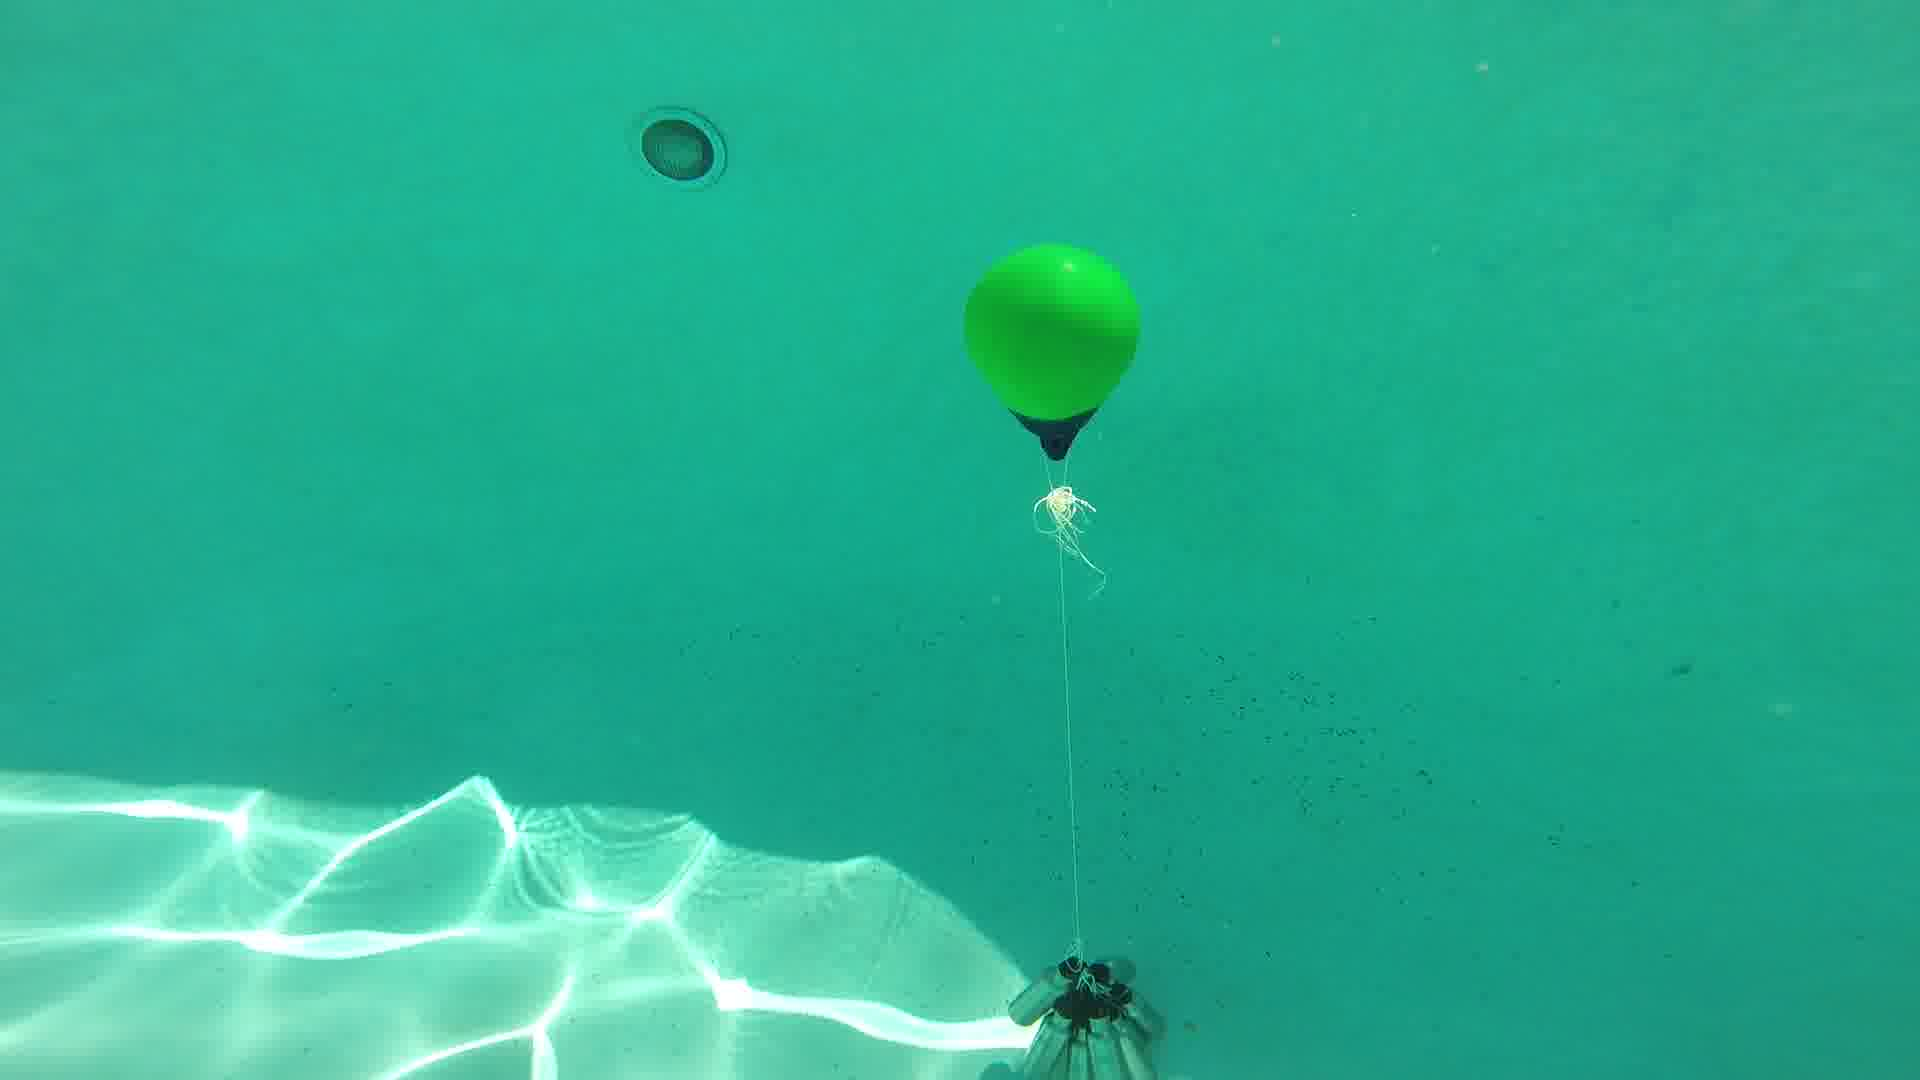yellow_buoy: (961, 243, 1145, 463)
